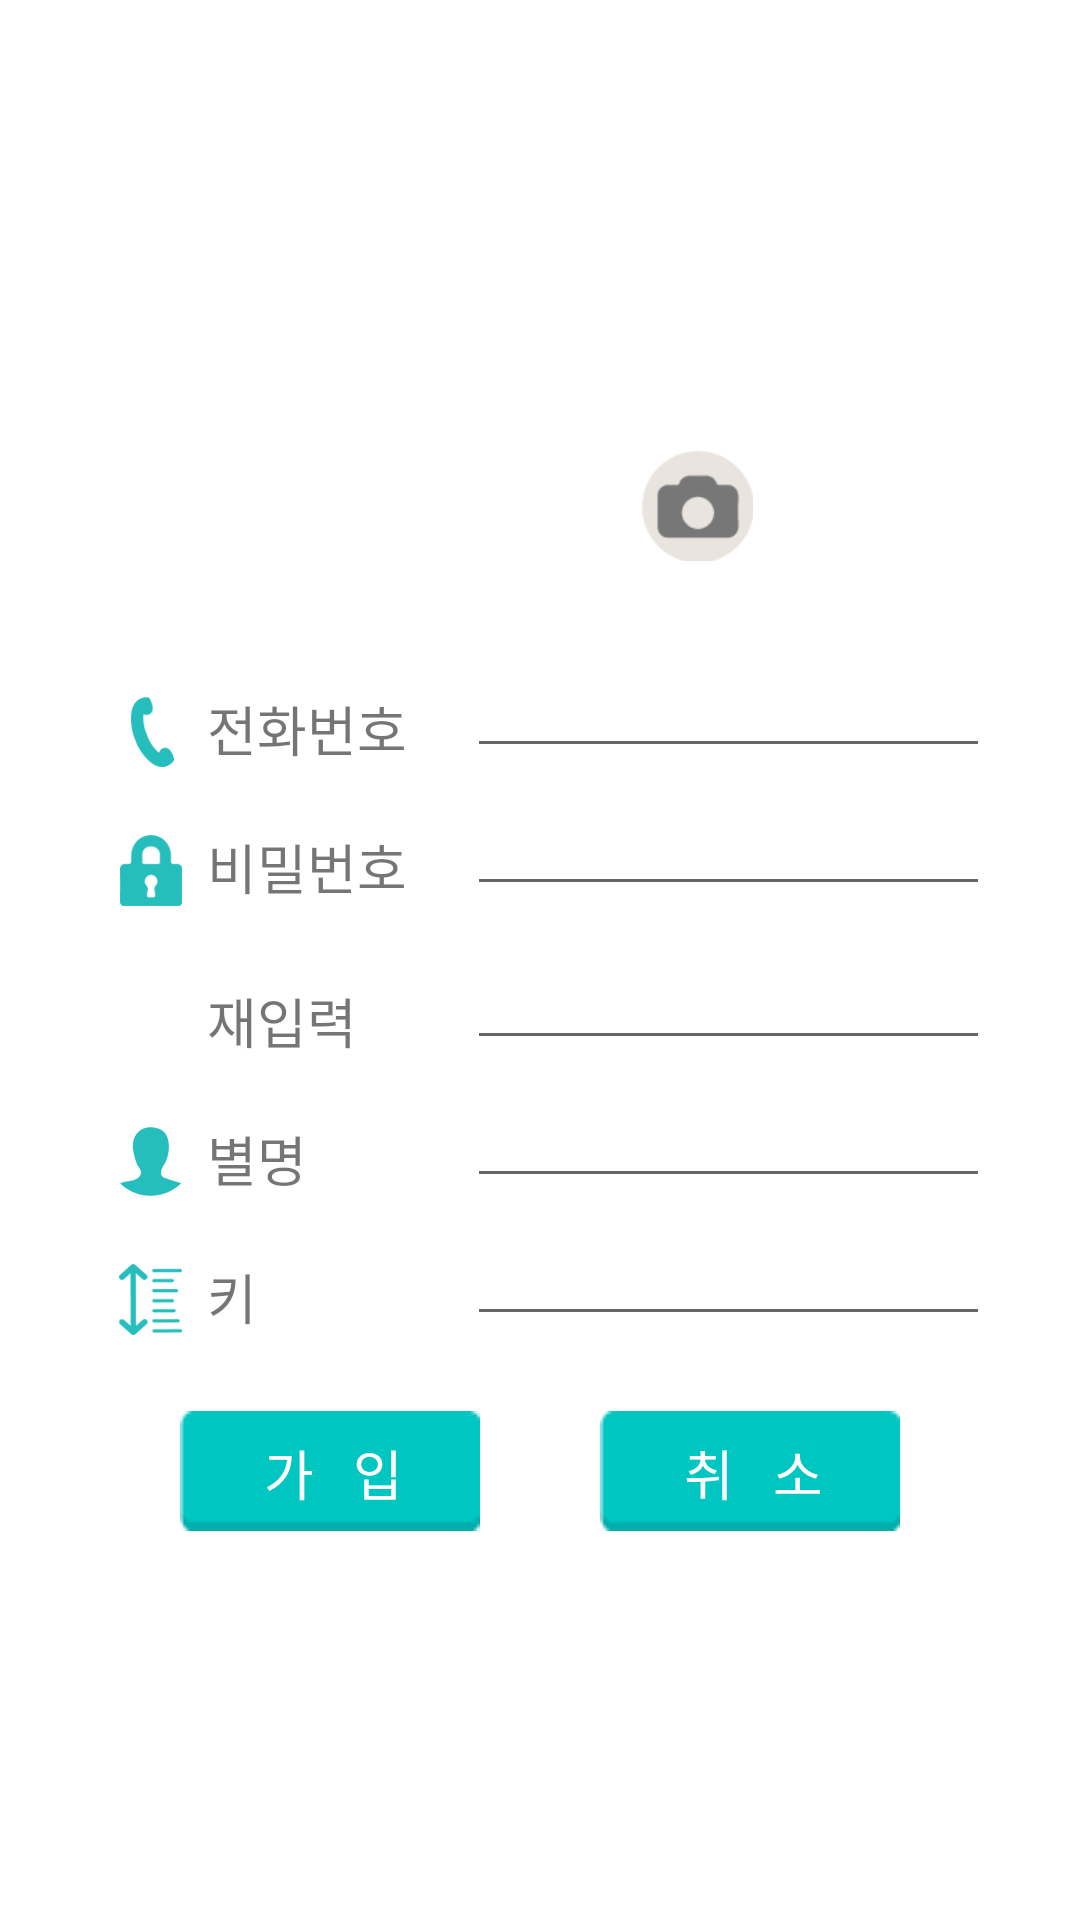

Named icons in this screenshot (1080x1920) and their bounding boxes, box=[x1, y1, x2, y2]:
camera: box=[642, 452, 753, 561]
join height: box=[119, 1264, 182, 1335]
join nick: box=[120, 1127, 181, 1196]
join phone: box=[131, 697, 174, 767]
join pw: box=[120, 835, 182, 906]
